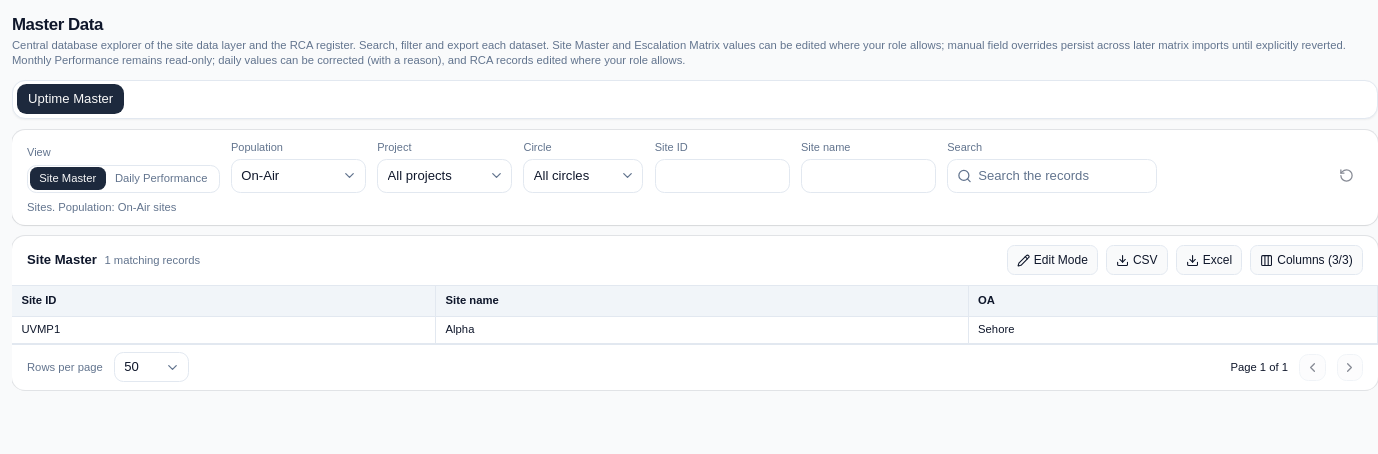
Test: Master Data editing › uses Enter, Tab and Shift+Tab for cell navigation, and Discard restores the server value
Click the button "Edit Mode": (1052, 260) [1006,245,1098,275]
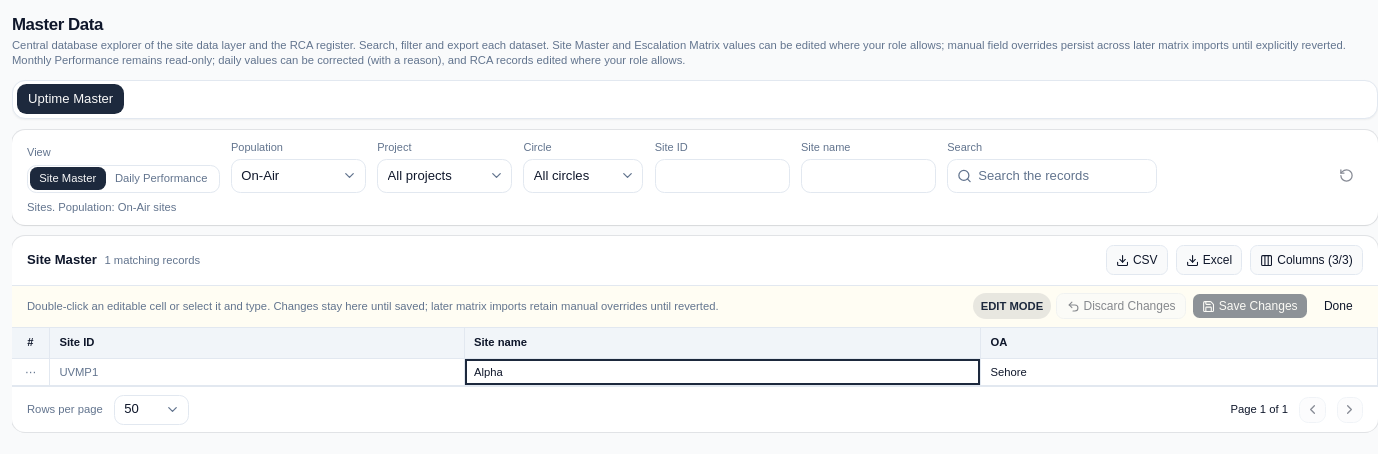
Press Enter
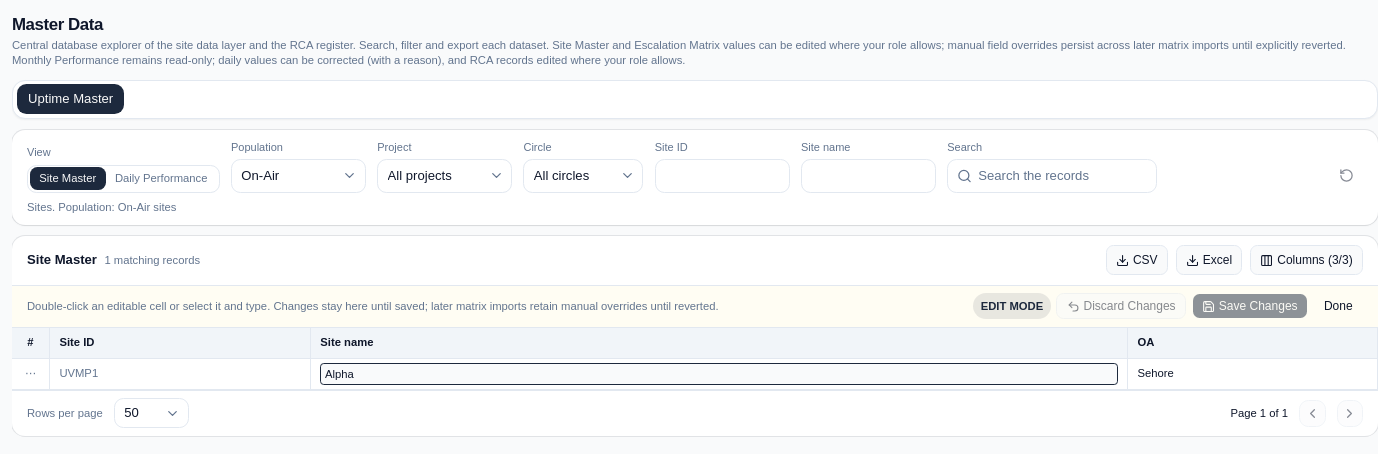
Replace the text in the field named "Site name of record 1" with "Draft": (719, 374) [320,363,1118,385]
Then press Tab
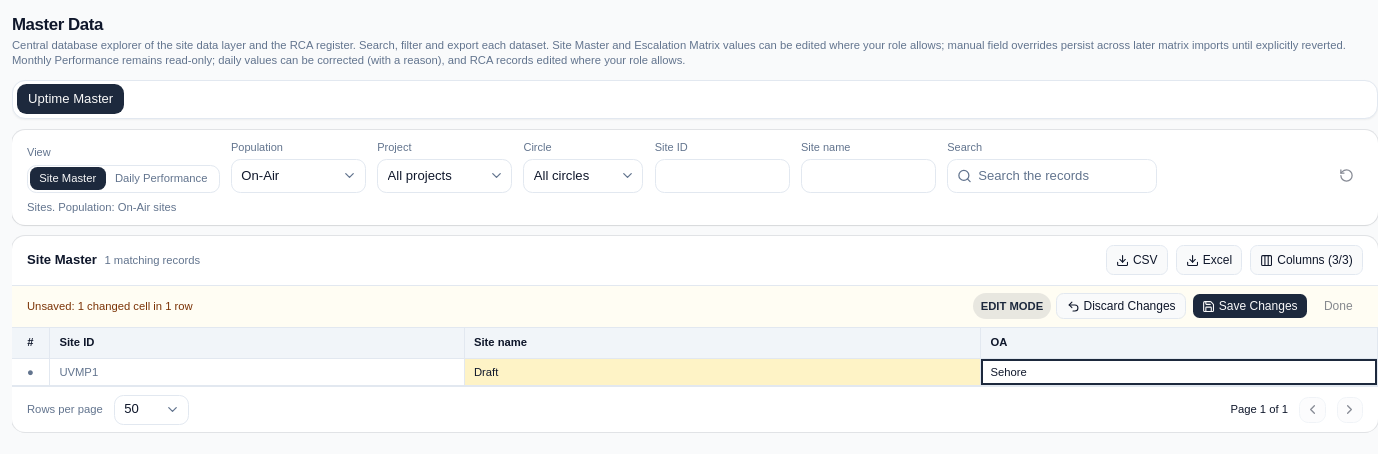
Check: the cell "Sehore" has attribute aria-label="OA of record 1: Sehore", box [980,358,1377,386]
Press Enter
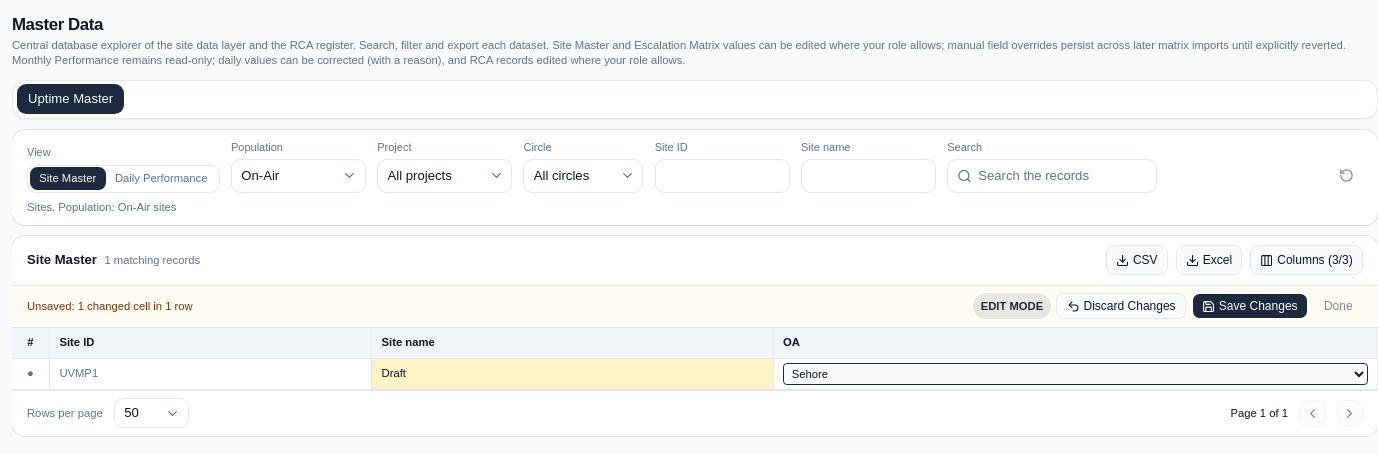
Type keys "{Shift>}{Tab}{/Shift}"
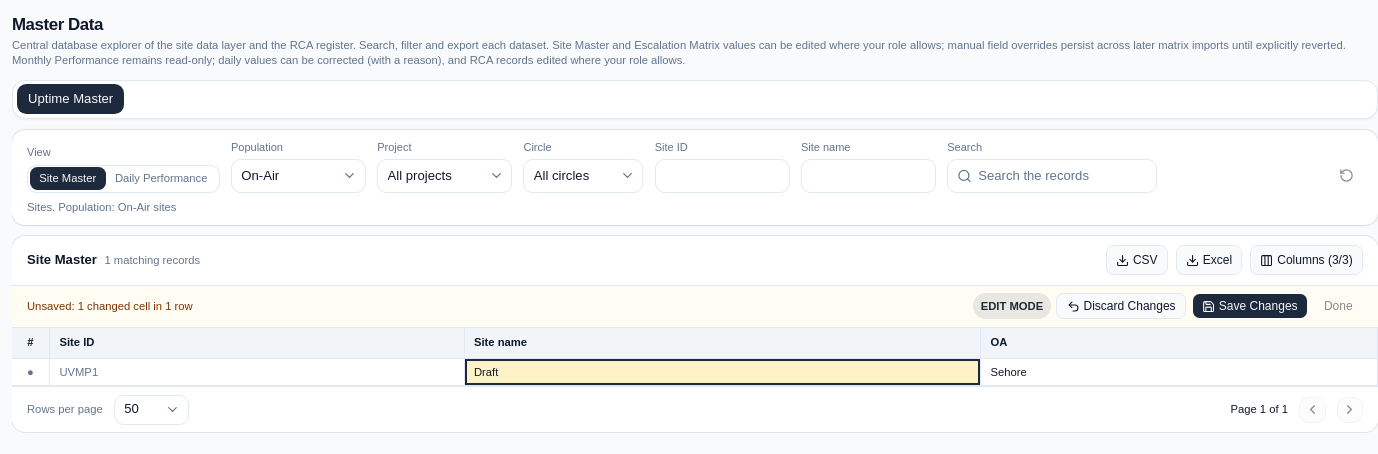
Check: the cell named "Site name of record 1" has attribute aria-label="Site name of record 1: Draft", box [464,358,980,386]
Click the button "Discard Changes": (1121, 306) [1056,293,1186,320]
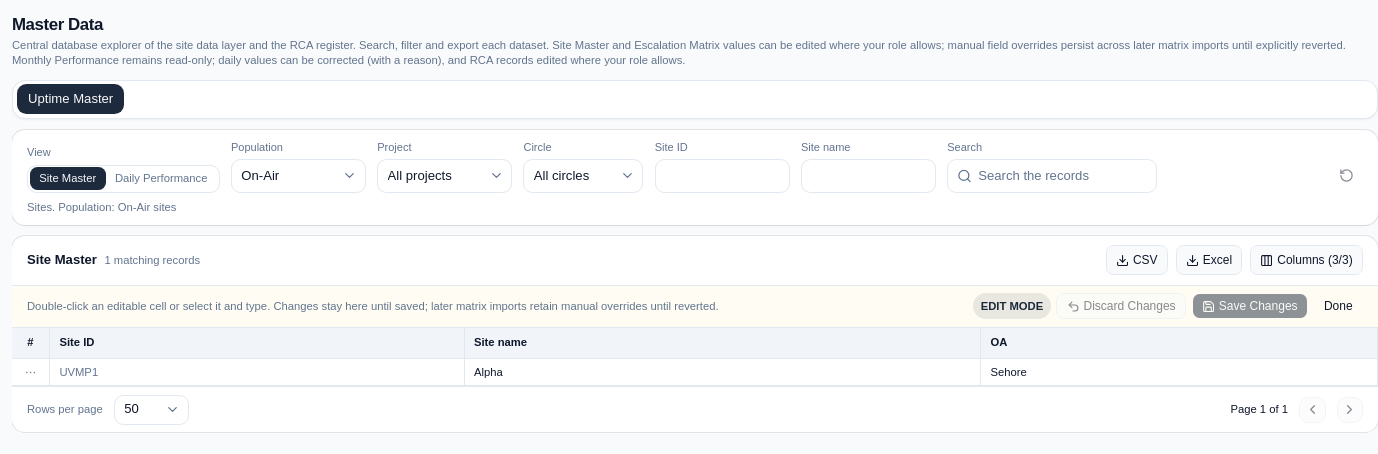
Check: the cell named "Site name of record 1: Alpha" is shown, box [464,358,980,386]
